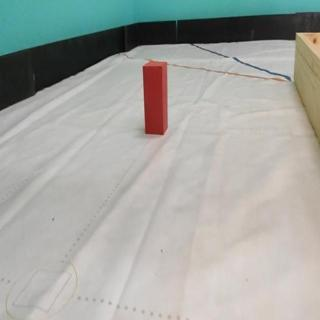redbox: (142, 59, 168, 134)
